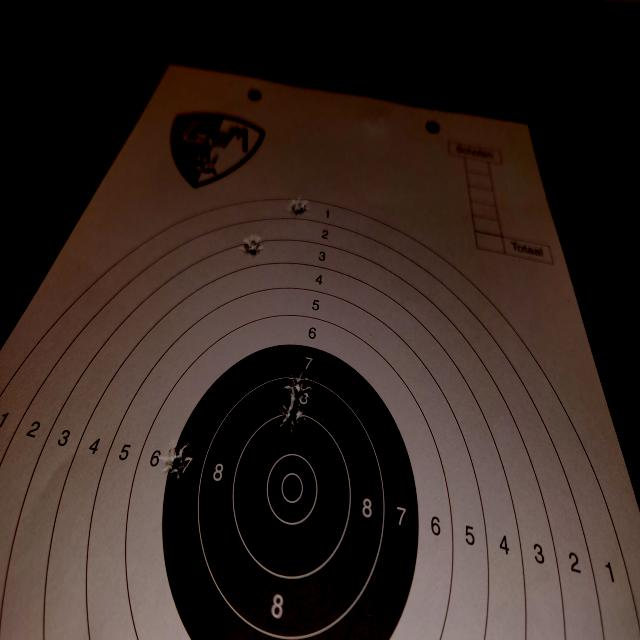1: (288, 196, 308, 218)
3: (243, 232, 264, 258)
7: (161, 437, 188, 484)
8: (286, 372, 308, 402)
9: (280, 402, 306, 432)
Target: (0, 195, 640, 640)
black_contour: (162, 342, 420, 640)
